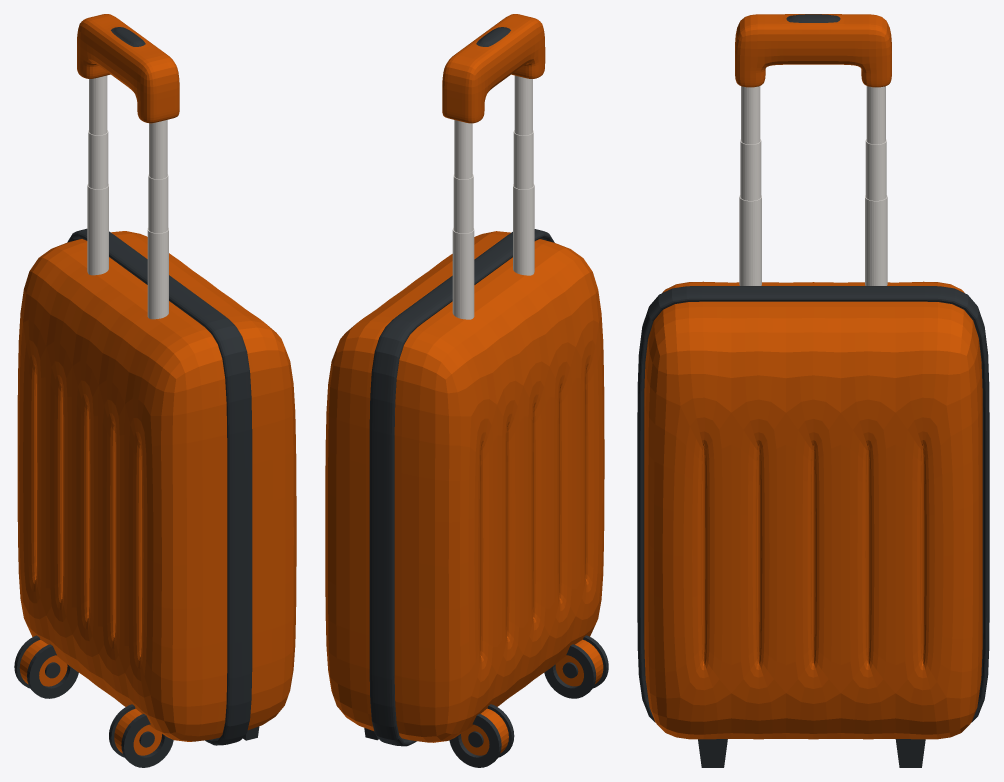
File: suitcase.gltf
The picture shows the model from 3 angles, left to right: view 1: azimuth 30°, elevation 25°; view 2: azimuth 150°, elevation 25°; view 3: azimuth 270°, elevation 25°; orthographic projection. The views are drawn at different scales.
Parts seen in each view (by area): view 1: Cube, ring, handle, wheels, Cylinder.001, Cylinder.002, Cylinder.003; view 2: Cube, ring, handle, wheels, Cylinder.001, Cylinder.002, Cylinder.003; view 3: Cube, ring, handle, Cylinder.001, Cylinder.002, Cylinder.003, feet.
Boxes of the visible parts, x1,y1,x2,y2 form: Cube: (17, 231, 296, 741); ring: (67, 228, 252, 745); handle: (77, 14, 179, 123); wheels: (14, 635, 173, 767); Cylinder.001: (87, 184, 168, 319); Cylinder.002: (88, 132, 168, 233); Cylinder.003: (89, 75, 167, 179); Cube: (325, 231, 604, 742); ring: (369, 229, 554, 746); handle: (442, 14, 545, 123); wheels: (449, 635, 608, 767); Cylinder.001: (452, 184, 534, 319); Cylinder.002: (453, 132, 533, 233); Cylinder.003: (454, 75, 532, 179); Cube: (644, 281, 982, 739); ring: (637, 286, 989, 722); handle: (735, 14, 891, 87); Cylinder.001: (739, 195, 887, 285); Cylinder.002: (740, 141, 886, 200); Cylinder.003: (741, 86, 885, 144); feet: (698, 739, 925, 767).
Size of the model in its own units: 1.14 by 4.66 by 2.08.
